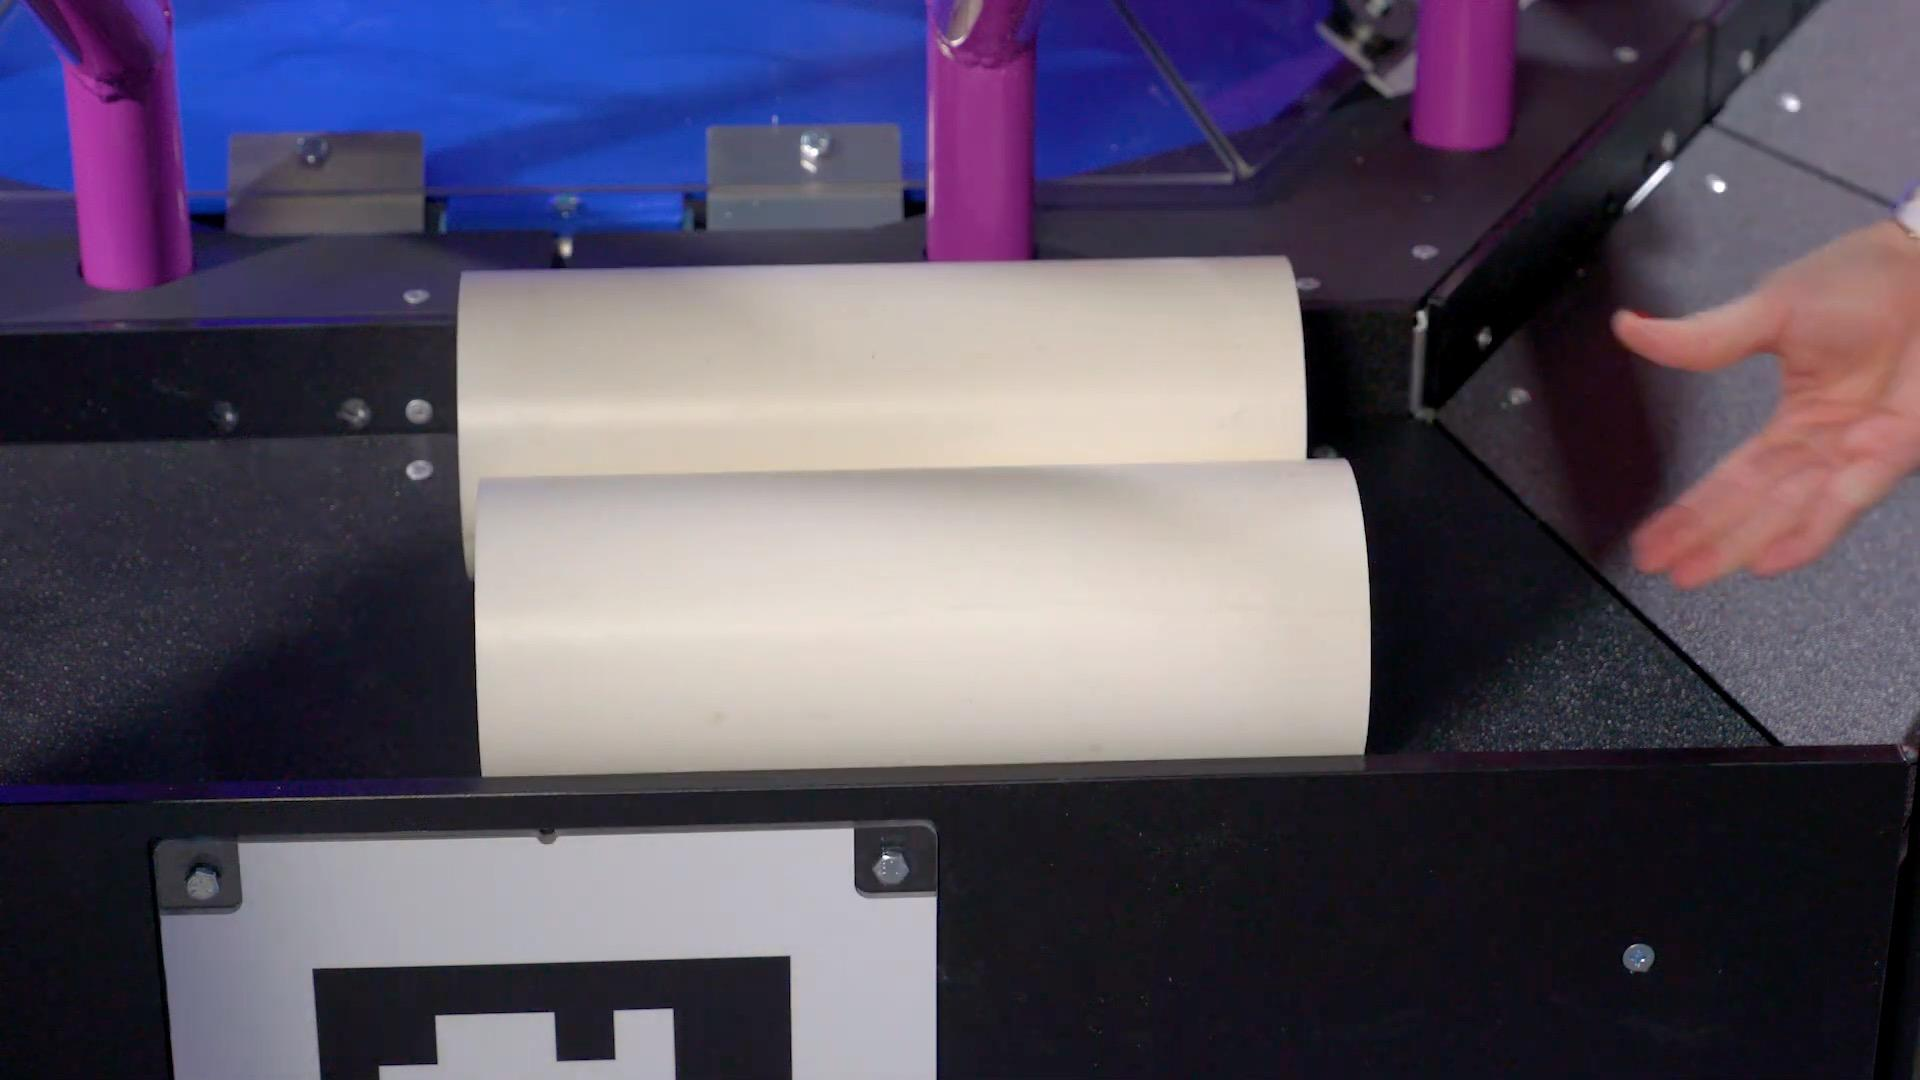CORAL: (475, 459, 1374, 776), (456, 256, 1308, 581)
